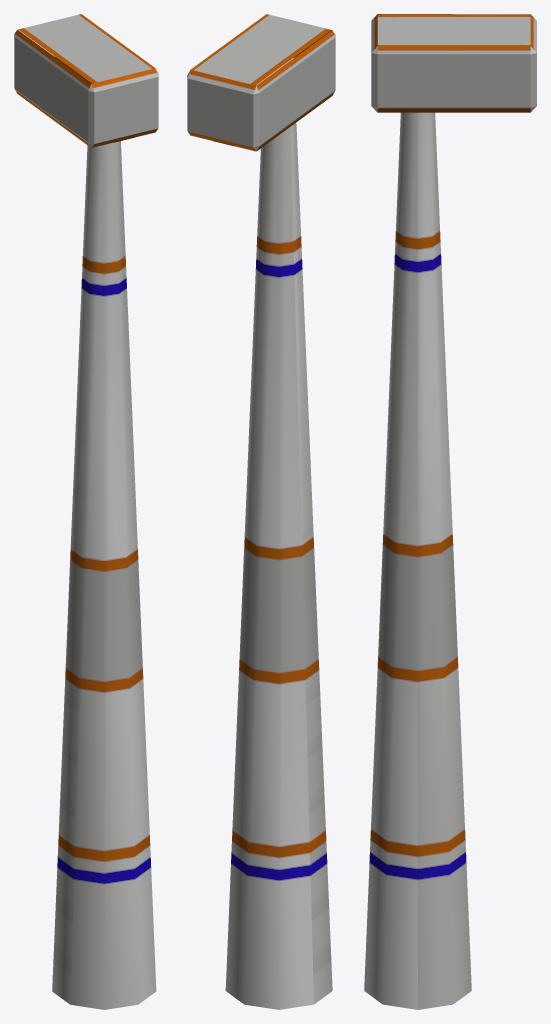
File: windwheel back.FBX
The picture shows the model from 3 angles, left to right: view 1: azimuth 30°, elevation 25°; view 2: azimuth 150°, elevation 25°; view 3: azimuth 270°, elevation 25°; orthographic projection. The views are drawn at different scales.
Visible parts, largest first — view 1: Cylinder040; view 2: Cylinder040; view 3: Cylinder040.
Part boxes in pixels (bbox=[...]): Cylinder040: bbox=[14, 14, 158, 1009]; Cylinder040: bbox=[187, 14, 335, 1009]; Cylinder040: bbox=[364, 14, 536, 1009].
Size of the model in its own units: 870 by 8661 by 1417.
